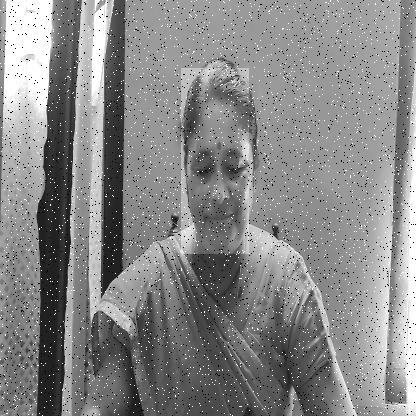Normal: (180, 68, 249, 254)
